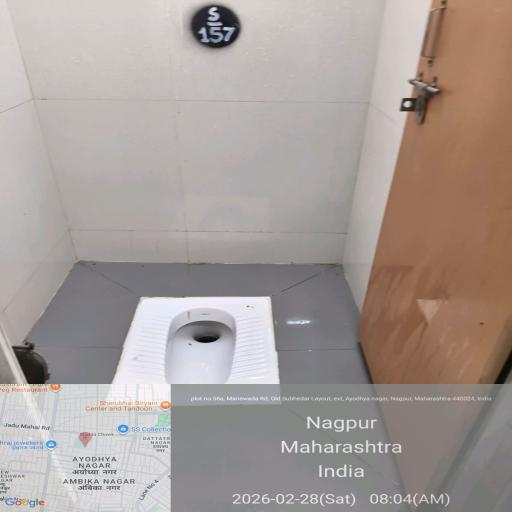clean_floor: (54, 252, 494, 512), (44, 15, 435, 222)
clean_indian: (118, 286, 314, 409)
